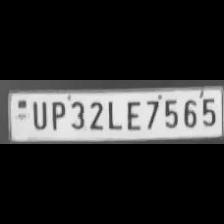2: (86, 98, 104, 132)
3: (66, 97, 86, 130)
5: (198, 94, 218, 128), (160, 96, 178, 130)
6: (180, 96, 198, 128)
7: (141, 96, 158, 130)
E: (122, 97, 142, 130)
L: (104, 97, 122, 130)
P: (47, 99, 66, 131)
U: (28, 98, 48, 130)
